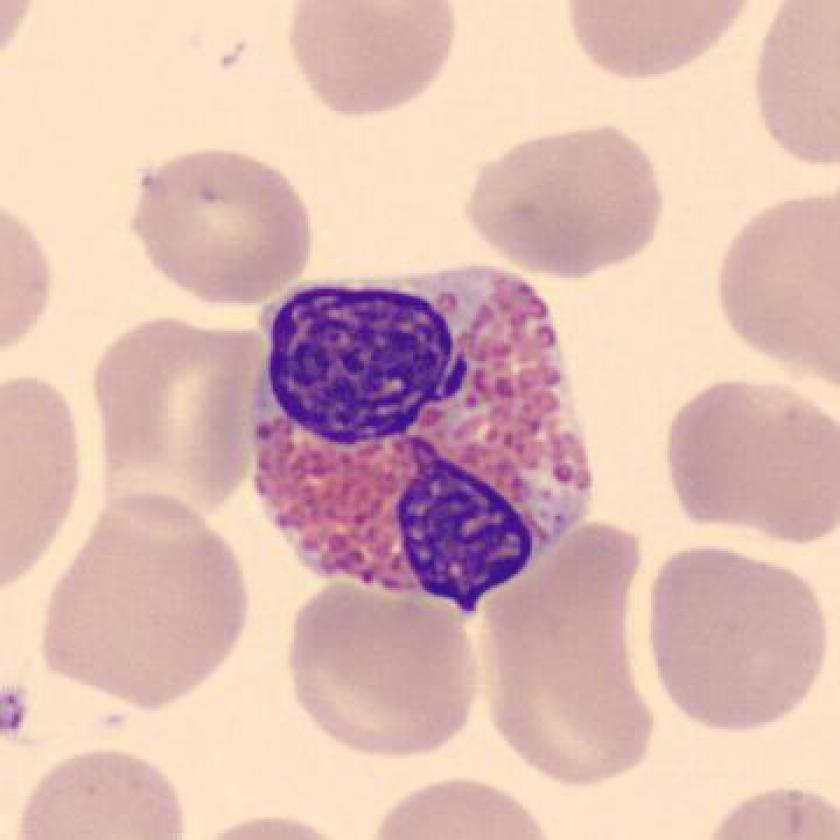eosinophil: (232, 255, 610, 612)
